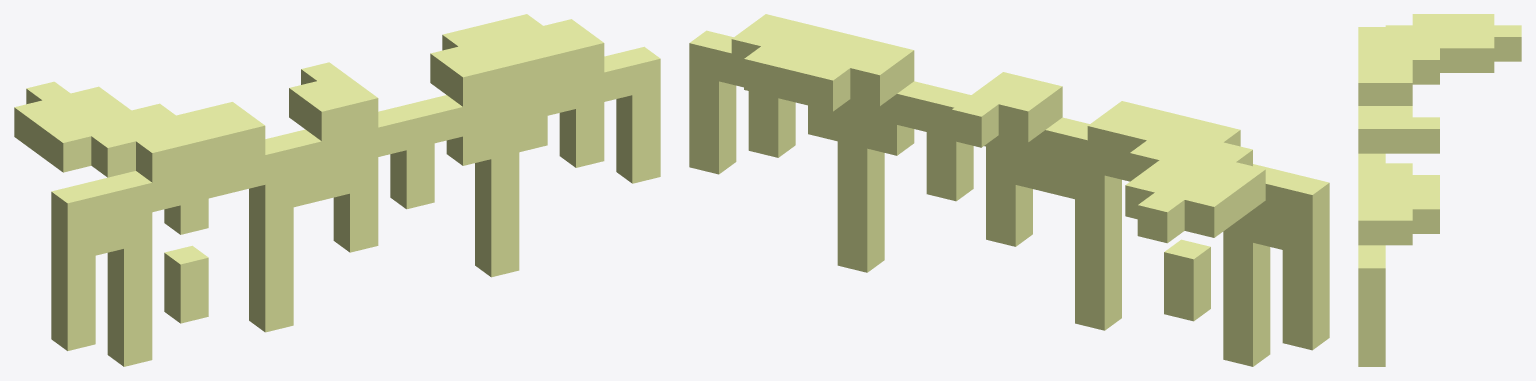
File: LedgeSandOneSide.obj
3 views of the same model, side by side, from view 1: azimuth 30°, elevation 25°; view 2: azimuth 150°, elevation 25°; view 3: azimuth 270°, elevation 25° (orthographic). The views are drawn at different scales.
Size of the model in its own units: 2.1 by 0.7 by 0.6.
